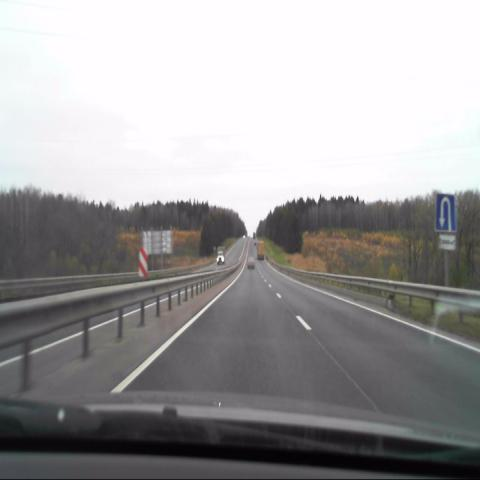6_3_1: (434, 193, 456, 234)
